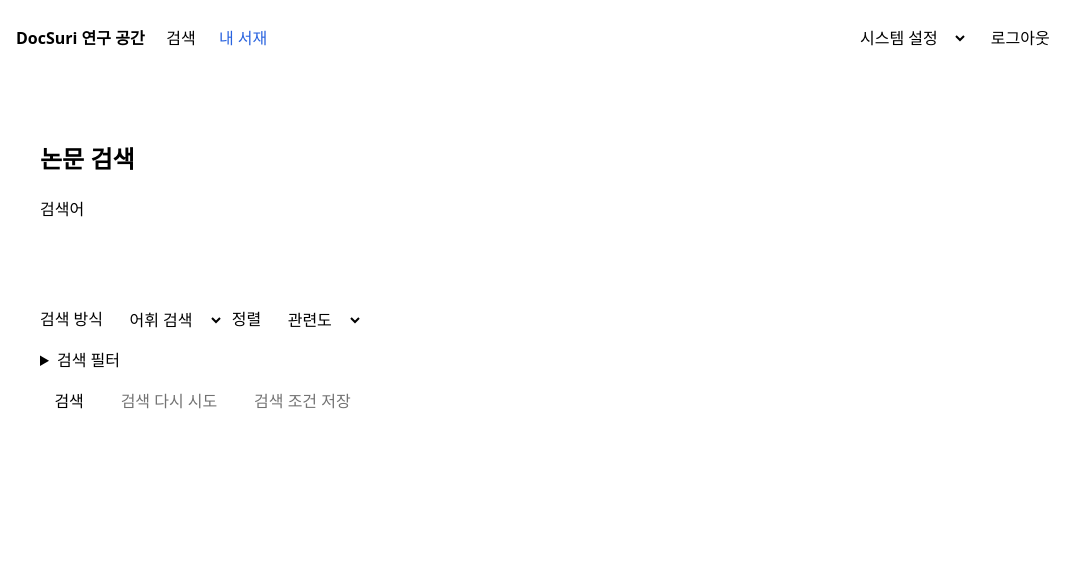
Test: entry flows › logs out, clears private state and re-bootstraps the session
Click the button with test id "nav-library".
click(243, 38)  # box [209,18,277,58]
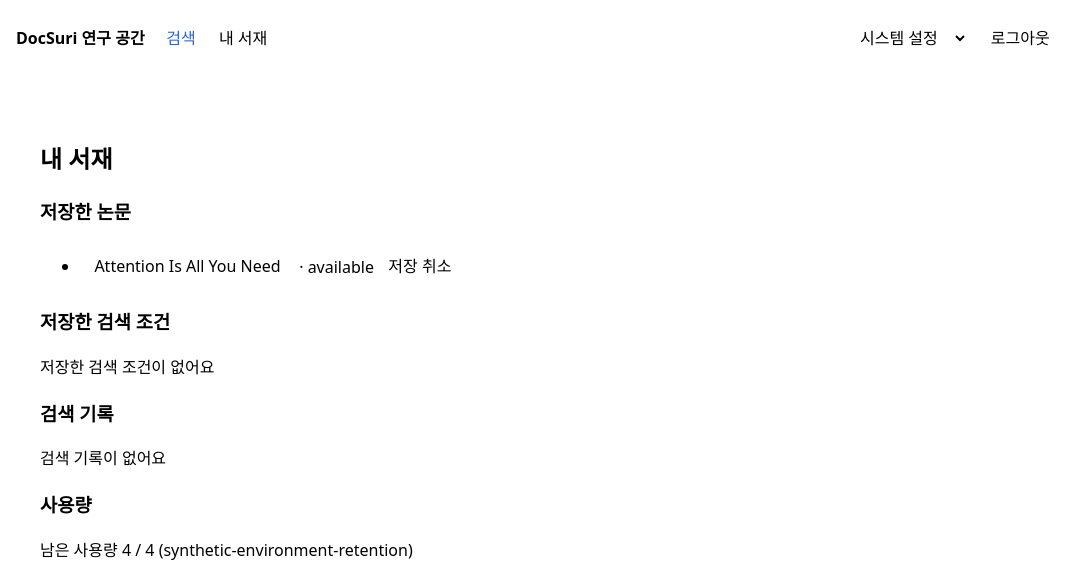
Expected: the button "Attention Is All You Need" is shown, [80,245,295,289]
Expected: the text with test id "usage-value" shows "남은 사용량 4 / 4", [40,539,413,561]
Click the button with test id "logout".
click(1020, 38)  # box [976,16,1064,60]
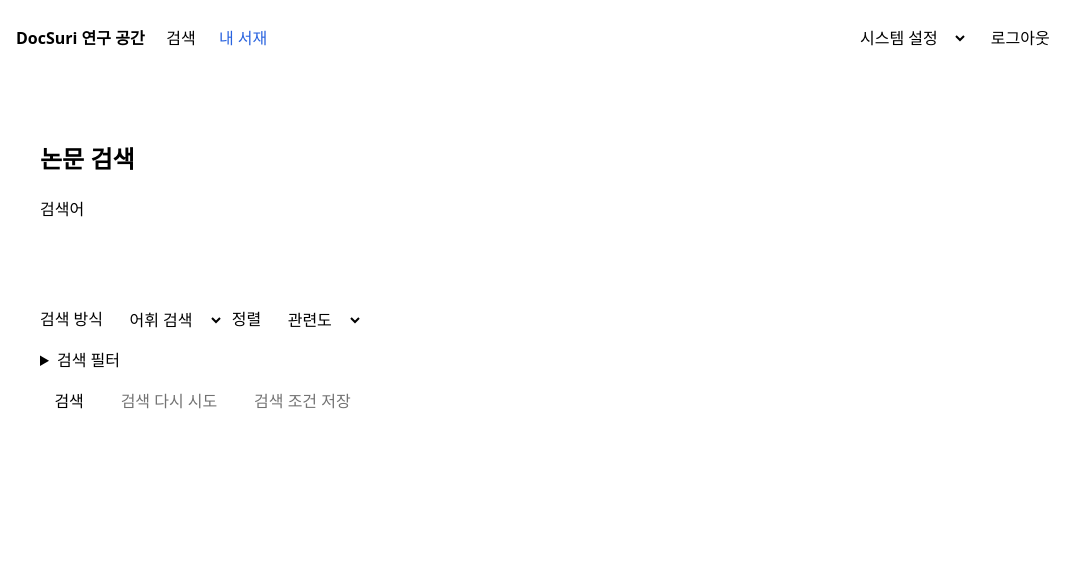
Expected: the element with test id "search-workspace" is shown, [40,142,488,423]
